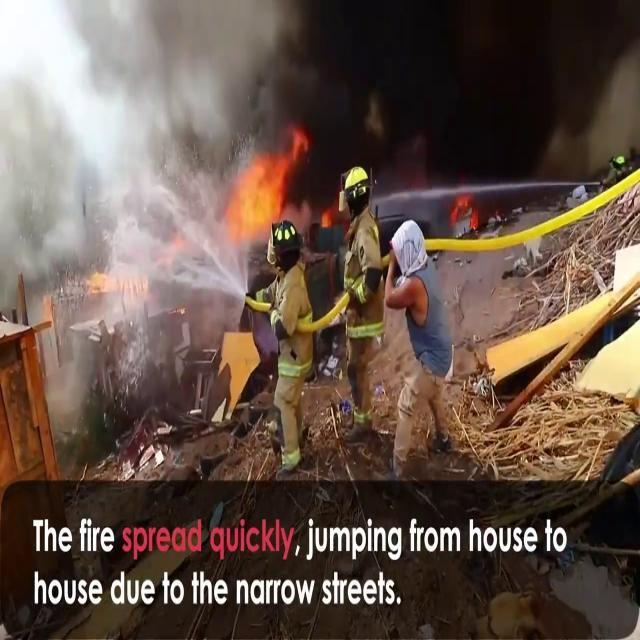Fire: (225, 142, 308, 237)
Smoke: (98, 1, 639, 200), (0, 0, 270, 326)
